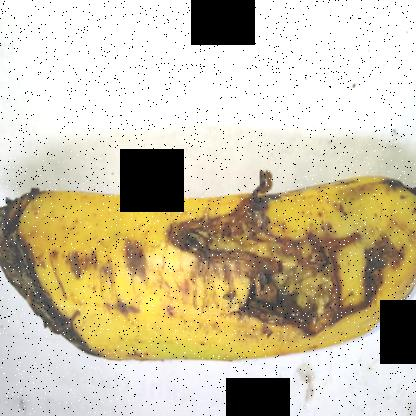rotten: (164, 168, 396, 382), (0, 147, 116, 398)
